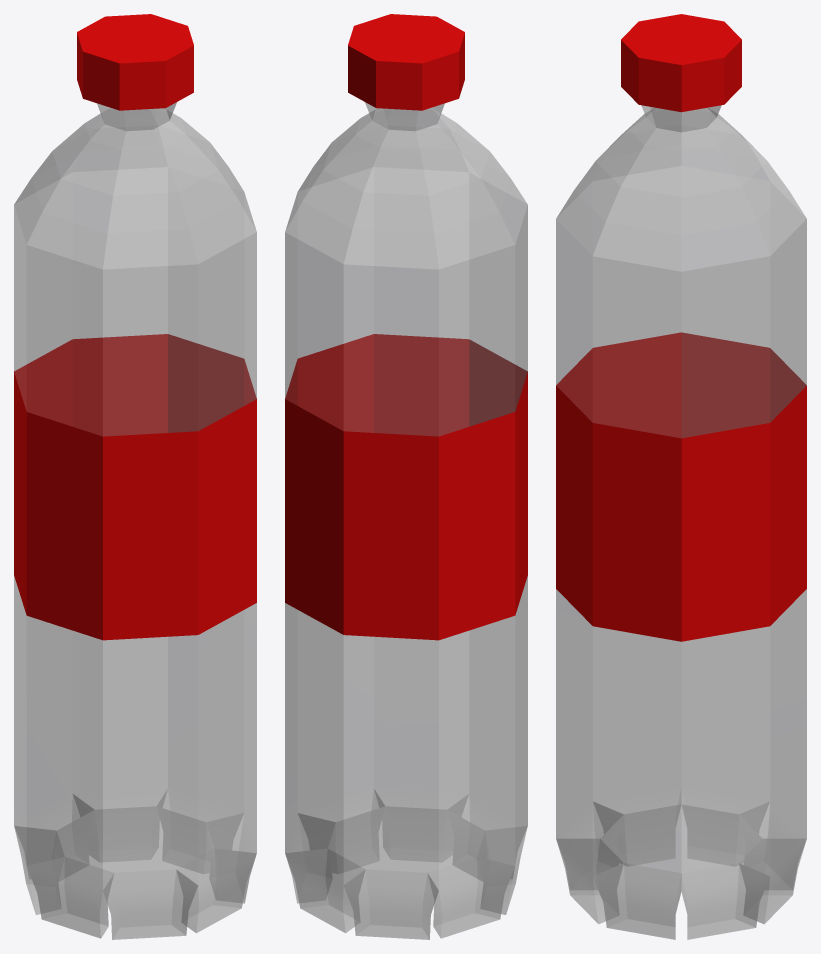
The model's file is garrafa.fbx.
3 renders of one model, left to right at view 1: azimuth 30°, elevation 25°; view 2: azimuth 150°, elevation 25°; view 3: azimuth 270°, elevation 25°, orthographic.
Visible parts, largest first — view 1: pCylinder18; view 2: pCylinder18; view 3: pCylinder18.
Part boxes in pixels (bbox=[...]): pCylinder18: bbox=[14, 14, 256, 939]; pCylinder18: bbox=[285, 14, 527, 939]; pCylinder18: bbox=[556, 14, 806, 939].
Bounding box in the file's own units: 0.084 × 0.3151 × 0.084.
